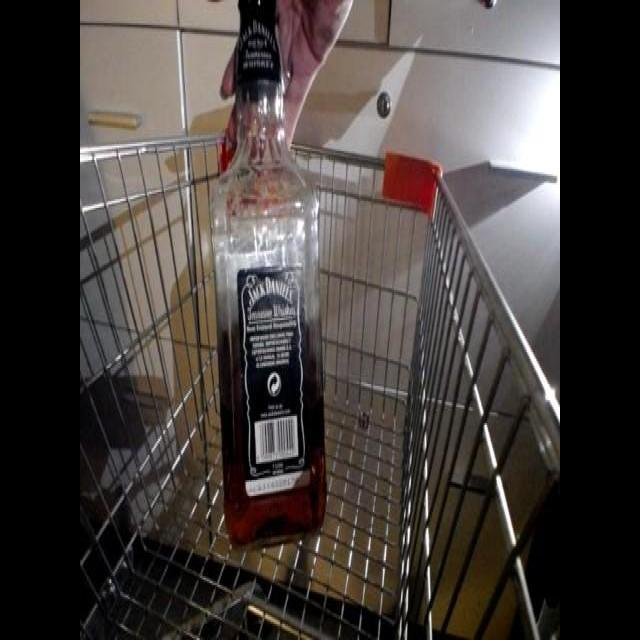Jack Daniels: (214, 0, 332, 551)
